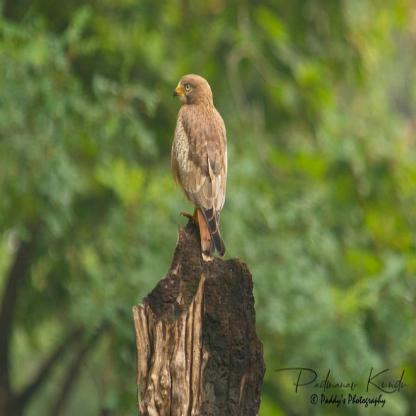Burung: (170, 70, 235, 258)
